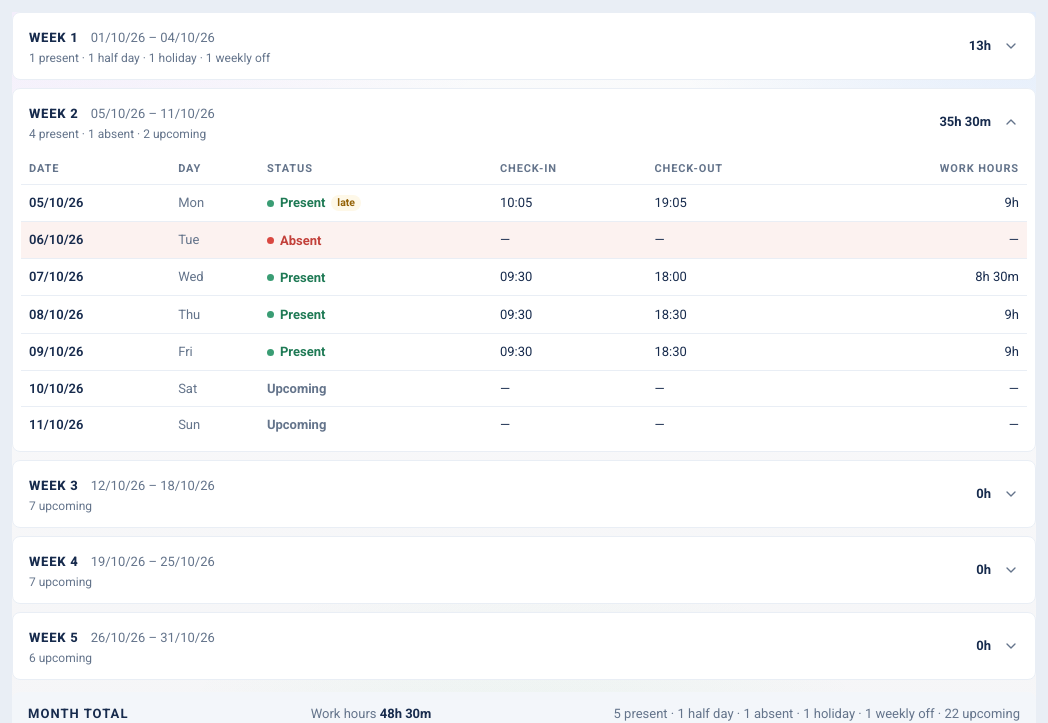
Test: AttendanceWeeklyReport › colours each status: present green, absent red, half day orange, holiday blue, weekly off grey, upcoming neutral
Click the button "Week 1" at coordinates (50, 38), box [13,13,1035,79]
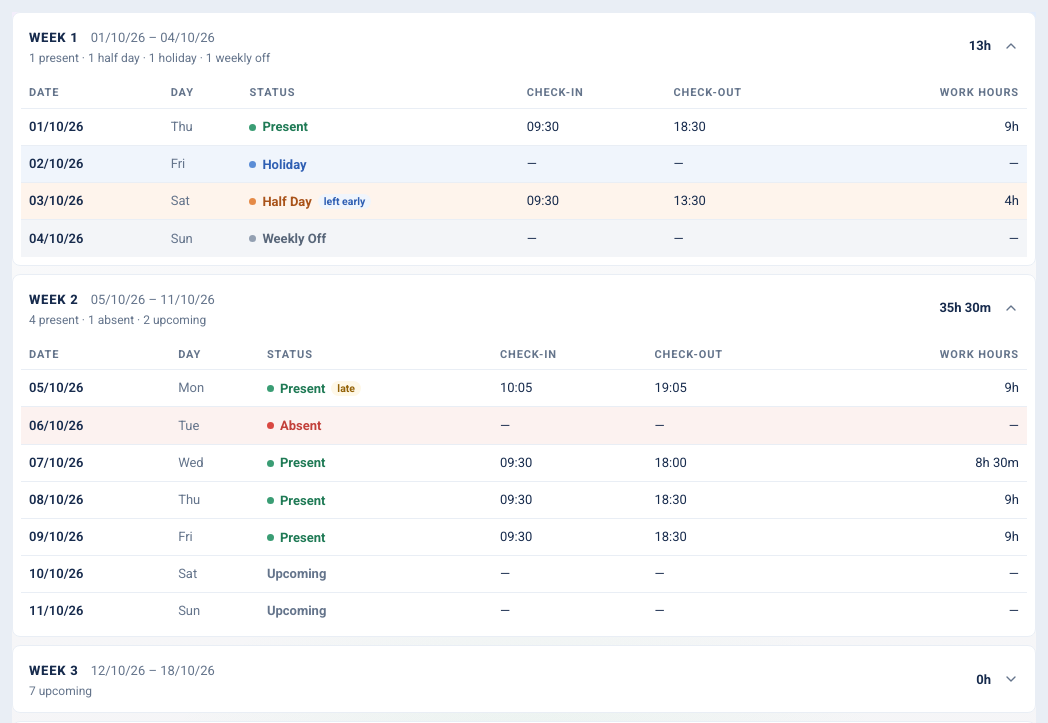
Expected: the row "10/10/26 Sat Upcoming — — —" is shown, [21,556,1027,592]
Result: the row "03/10/26 Sat Half Day left early 09:30 13:30 4h" is shown at [21,182,1027,220]
Result: the row "01/10/26 Thu Present 09:30 18:30 9h" is shown at [21,108,1027,145]
